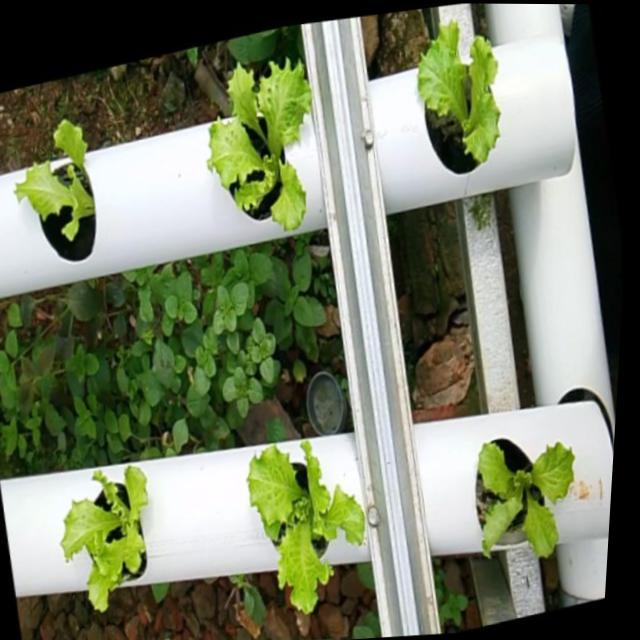Baby: (250, 435, 368, 608), (210, 41, 314, 226), (419, 15, 502, 169), (65, 463, 151, 608), (478, 431, 577, 551), (18, 118, 99, 260)
